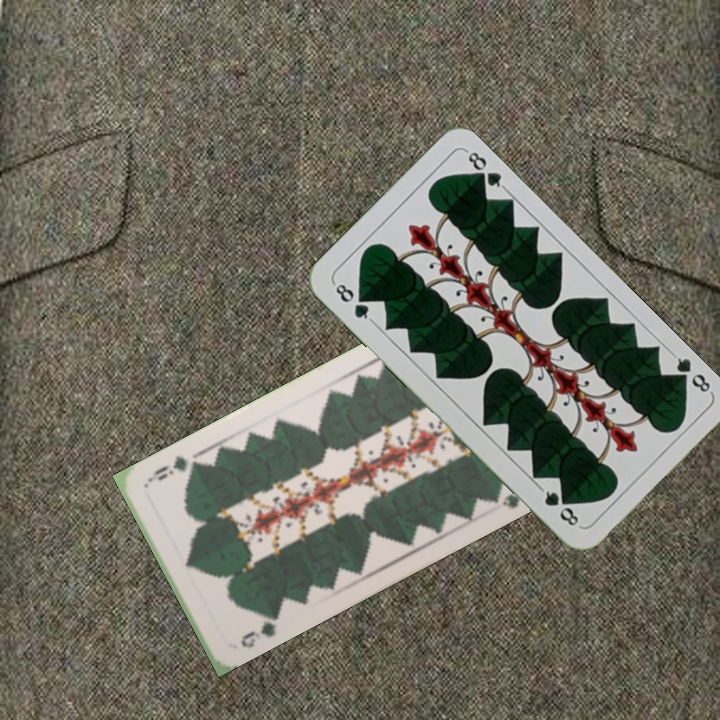G8: (330, 278, 376, 325), (668, 349, 715, 395)
G9: (236, 611, 282, 651)
